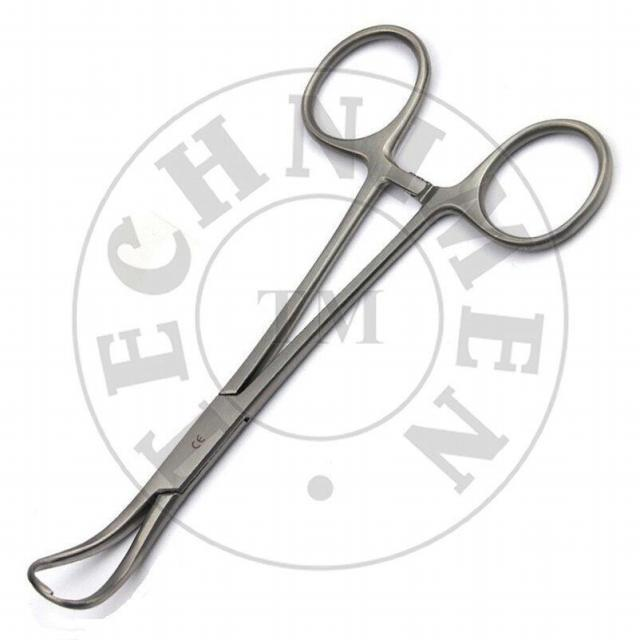Towel_clip: (26, 19, 618, 611)
